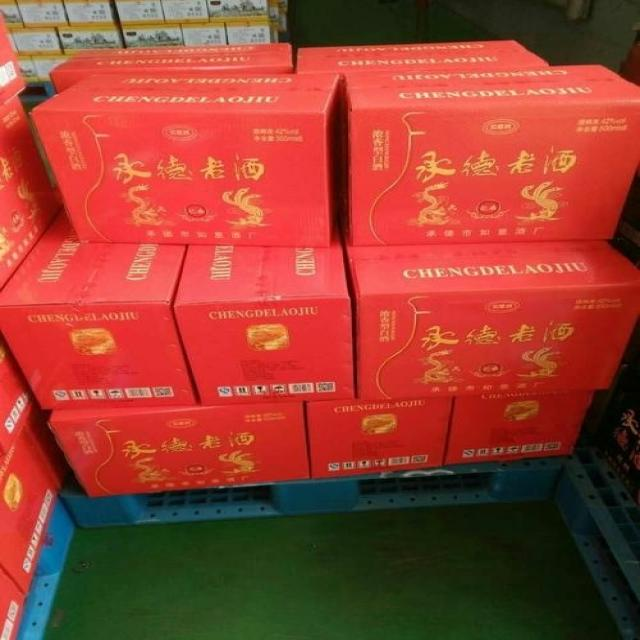box: (33, 71, 348, 250), (343, 65, 638, 243), (348, 242, 639, 395), (0, 209, 202, 413), (172, 224, 356, 401), (45, 402, 312, 498), (0, 94, 65, 286), (308, 394, 455, 477), (51, 43, 296, 92), (447, 387, 601, 461), (583, 322, 636, 537), (0, 433, 57, 594), (297, 40, 551, 74), (27, 410, 75, 492), (615, 175, 639, 270), (0, 571, 33, 639), (58, 23, 123, 55), (12, 24, 64, 60), (118, 21, 182, 50), (175, 21, 228, 48), (17, 0, 70, 25), (34, 55, 75, 87), (222, 21, 275, 44), (65, 2, 115, 24), (112, 1, 164, 22), (207, 2, 268, 17), (622, 30, 638, 85), (163, 3, 211, 21), (0, 1, 22, 32), (17, 61, 41, 89)
